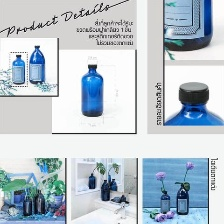bottle: (163, 73, 224, 126), (163, 0, 217, 54), (77, 61, 107, 126), (27, 40, 48, 86), (8, 52, 27, 84), (175, 179, 190, 217), (158, 187, 175, 215), (32, 188, 49, 215), (100, 178, 113, 203), (21, 194, 34, 217), (87, 169, 98, 190), (109, 177, 118, 193), (108, 170, 112, 188)
